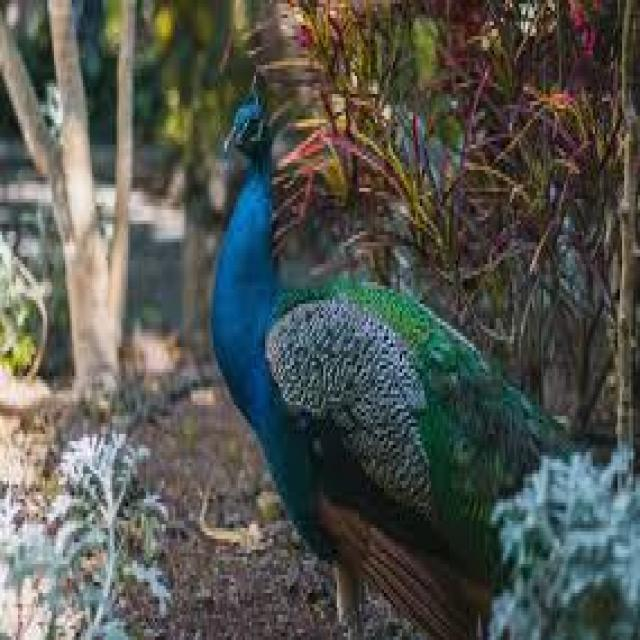peacock: (210, 66, 488, 639)
